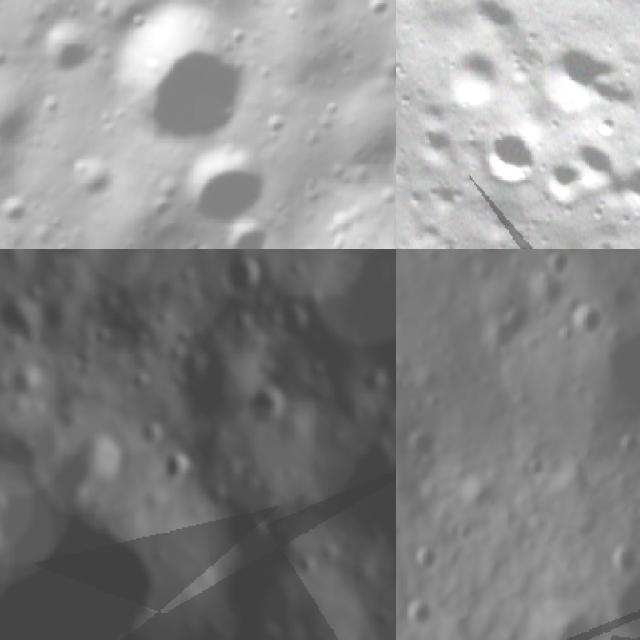crater: (77, 0, 280, 172), (164, 128, 278, 244), (305, 49, 396, 186), (524, 32, 634, 143), (427, 34, 518, 126), (45, 430, 136, 510), (0, 55, 59, 171), (465, 118, 548, 200), (24, 4, 106, 86), (587, 302, 640, 428), (50, 140, 126, 215), (445, 0, 534, 59), (560, 131, 627, 198), (531, 151, 596, 216), (358, 0, 396, 110), (216, 498, 279, 557), (600, 149, 640, 232), (486, 295, 535, 362), (405, 120, 459, 174), (155, 447, 209, 498), (243, 382, 294, 434), (210, 208, 270, 249), (214, 610, 294, 640), (272, 292, 317, 344), (603, 577, 640, 640), (220, 249, 265, 299), (542, 606, 597, 640), (569, 296, 606, 344), (256, 105, 296, 147), (133, 415, 171, 455), (401, 597, 437, 634), (605, 540, 640, 578), (123, 361, 155, 397), (406, 544, 441, 575), (293, 548, 328, 578), (543, 249, 574, 277), (586, 233, 623, 249), (140, 249, 177, 260), (0, 488, 13, 517)
